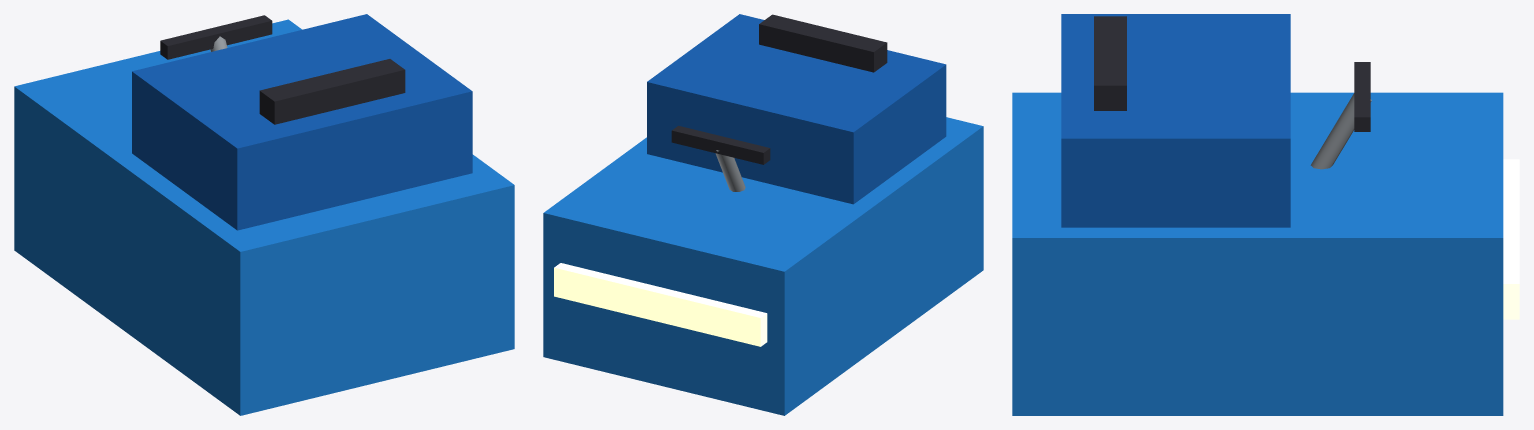
File: kart_brick.glb
The picture shows the model from 3 angles, left to right: view 1: azimuth 30°, elevation 25°; view 2: azimuth 150°, elevation 25°; view 3: azimuth 270°, elevation 25°; orthographic projection. The views are drawn at different scales.
Visible parts, largest first — view 1: kart_brick; view 2: kart_brick; view 3: kart_brick.
Boxes of the visible parts, x1,y1,x2,y2 form: kart_brick: (14, 14, 514, 415); kart_brick: (543, 14, 983, 415); kart_brick: (1012, 14, 1519, 415).
Size of the model in its own units: 1.05 by 0.985 by 1.55.
